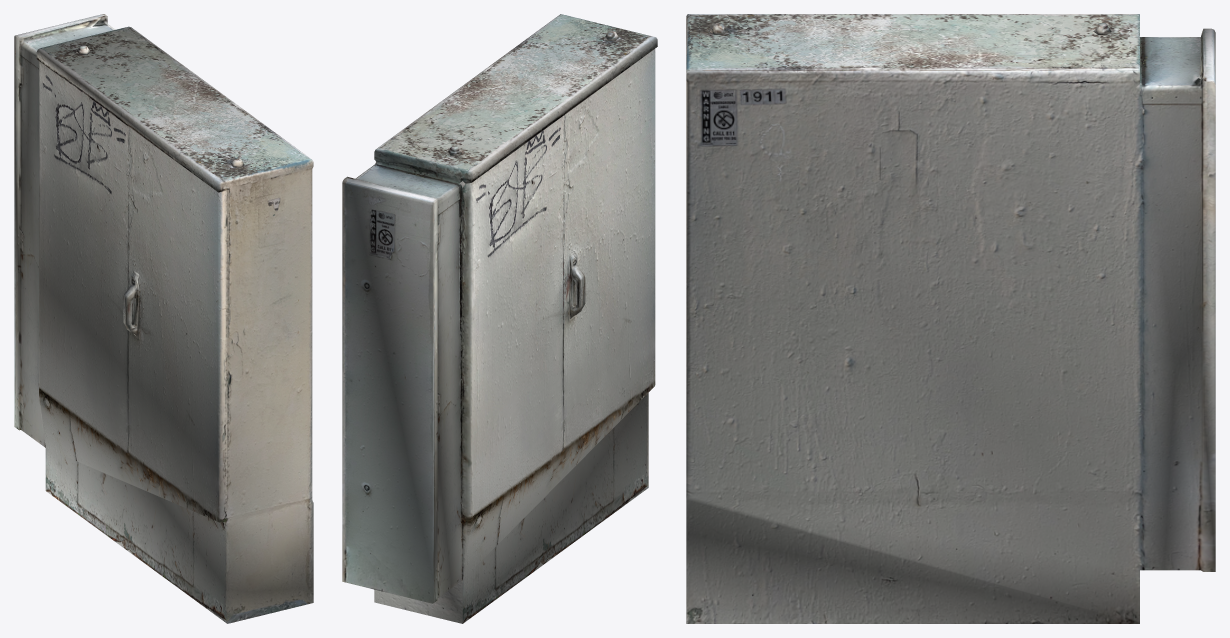
The model's file is Caja_electrica.glb.
3 renders of one model, left to right at view 1: azimuth 30°, elevation 25°; view 2: azimuth 150°, elevation 25°; view 3: azimuth 270°, elevation 25°, orthographic. The views are drawn at different scales.
Parts seen in each view (by area): view 1: Object_2; view 2: Object_2; view 3: Object_2.
Part boxes in pixels (x1=…): Object_2: x1=14, y1=14, x2=313, y2=623; Object_2: x1=342, y1=14, x2=657, y2=623; Object_2: x1=686, y1=14, x2=1215, y2=623.
Size of the model in its own units: 0.2113 by 0.8559 by 0.7326.
1 material, 1 textured.
